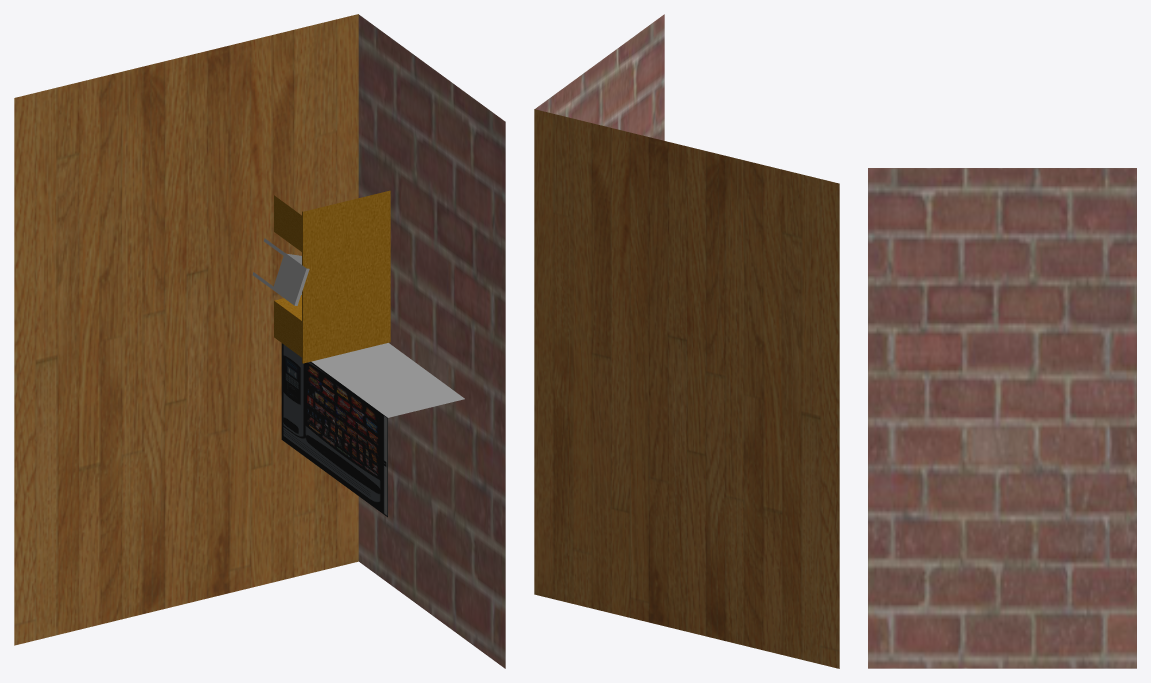
Rendered from mydesk.obj.
3 views of the same model, side by side, from view 1: azimuth 30°, elevation 25°; view 2: azimuth 150°, elevation 25°; view 3: azimuth 270°, elevation 25° (orthographic). The views are drawn at different scales.
Parts seen in each view (by area): view 1: Cube_Cube_Material_floor.png, Cube_Cube_Material_brickwall.png.001, Cube_Cube_Material_tableTexture.png, Cube_Cube_Material_vend.png, Cube_Cube_Material, Cube_Cube_Material.001; view 2: Cube_Cube_Material_floor.png, Cube_Cube_Material_brickwall.png.001; view 3: Cube_Cube_Material_brickwall.png.001.
Part boxes in pixels (x1,y1,x2,y2): Cube_Cube_Material_floor.png: [14, 14, 358, 645]; Cube_Cube_Material_brickwall.png.001: [358, 14, 505, 668]; Cube_Cube_Material_tableTexture.png: [274, 190, 390, 363]; Cube_Cube_Material_vend.png: [281, 343, 387, 517]; Cube_Cube_Material: [311, 343, 464, 417]; Cube_Cube_Material.001: [252, 238, 309, 305]; Cube_Cube_Material_floor.png: [534, 109, 839, 668]; Cube_Cube_Material_brickwall.png.001: [535, 14, 664, 140]; Cube_Cube_Material_brickwall.png.001: [868, 168, 1136, 668].
Bounding box in the file's own units: 77.74 × 118 × 57.47.
6 materials, 4 textured.
